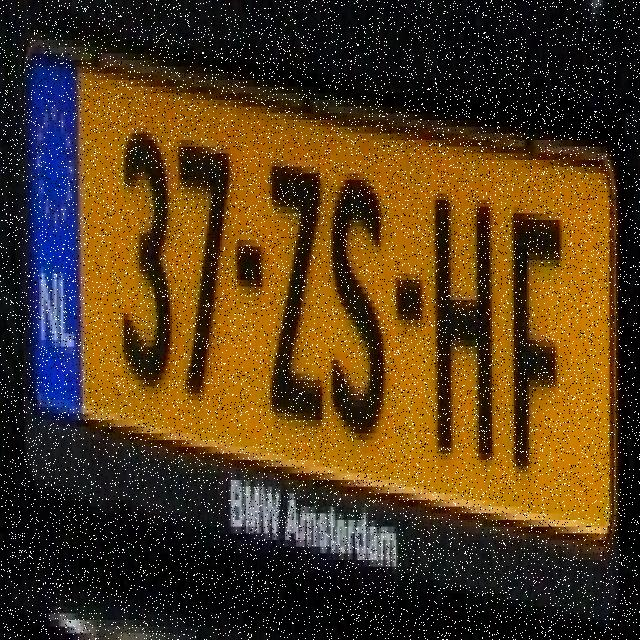licenseplate: (21, 18, 630, 554)
